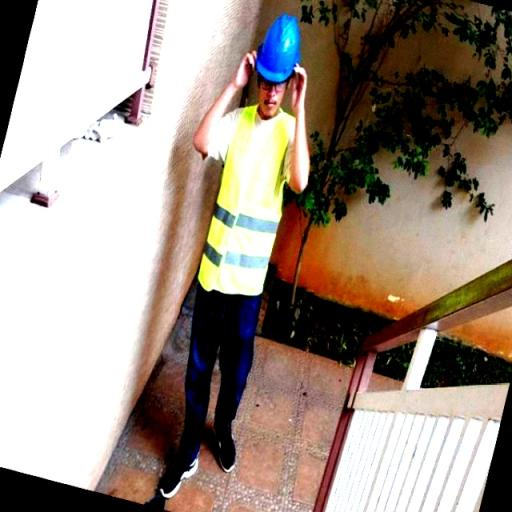Person: (162, 12, 319, 494)
helmet: (250, 12, 306, 86)
vest: (198, 104, 298, 313)
